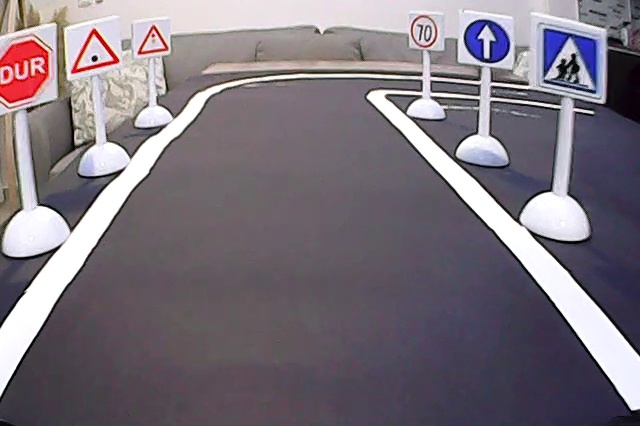green light: (67, 27, 125, 77)
red light: (134, 20, 172, 58)
school crossing: (537, 17, 605, 98)
speed limit 70: (410, 14, 444, 51)
stop sign: (1, 36, 60, 112)
